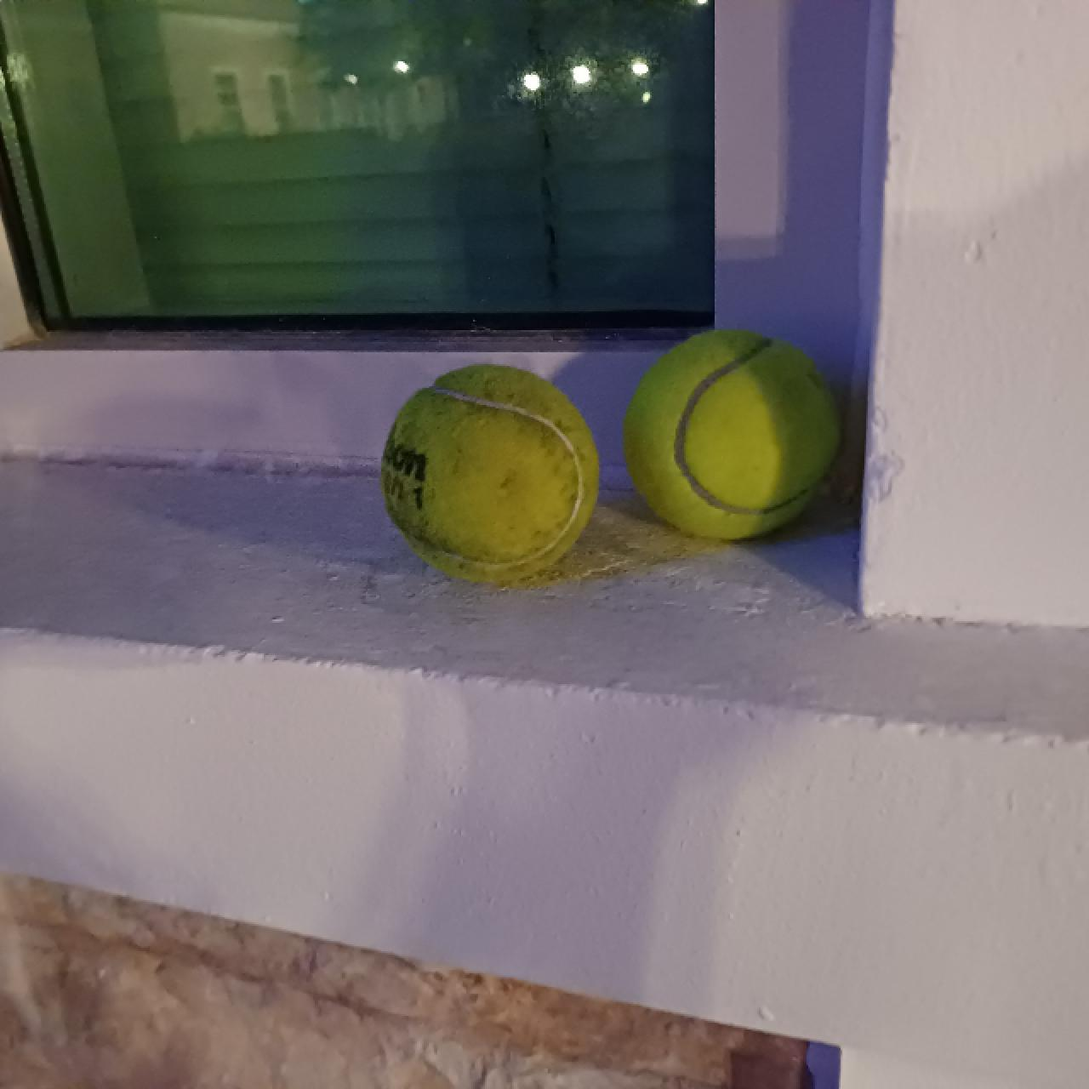tennis-ball: (377, 360, 600, 583), (619, 325, 840, 543)
